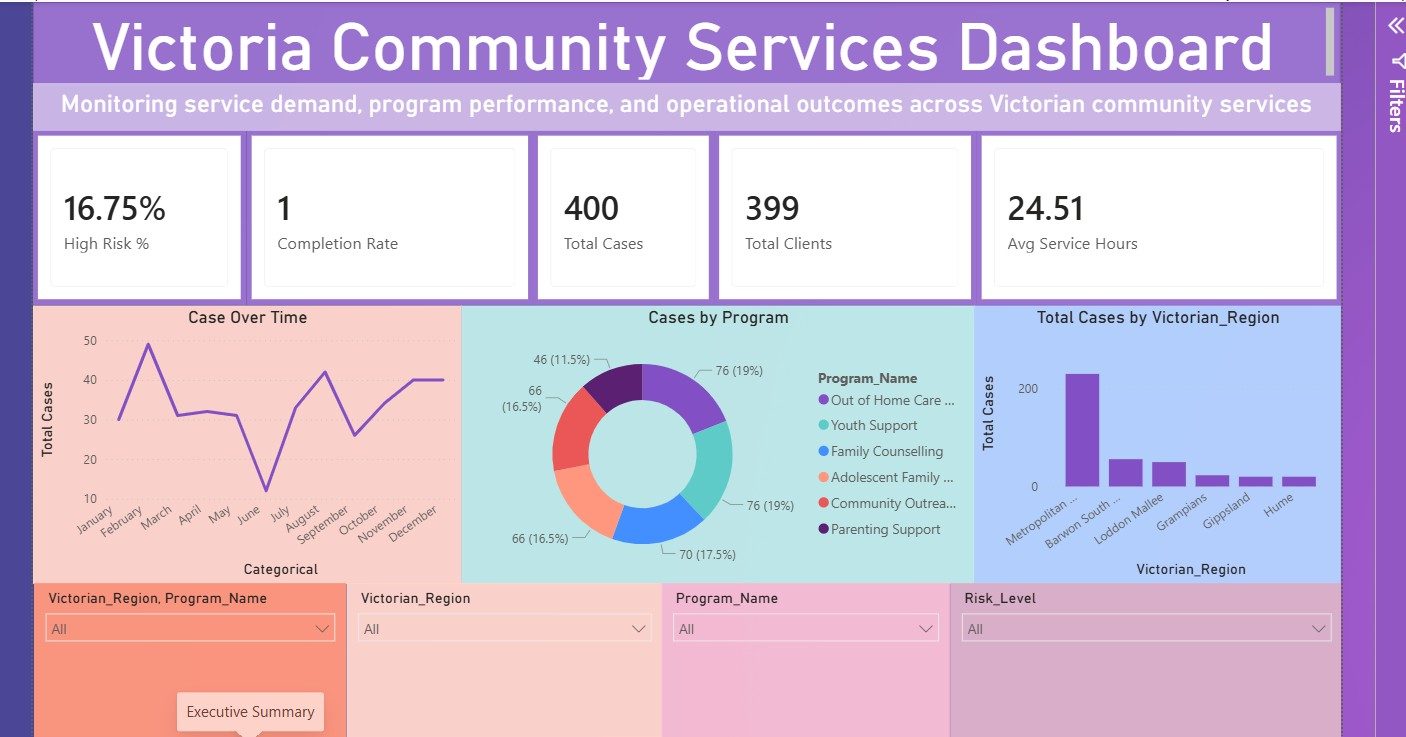

The page's visual inventory and layout, read from the dashboard file:
{"tool":"powerbi","page":{"name":"Executive Summary ","canvas":[1280,720],"ordinal":0},"visuals":[{"type":"cardVisual","fields":{"Data":["Victoria_Service_Data.High Risk Cases"]},"box":[0,126.4,208.8,170.3],"z":0},{"type":"cardVisual","fields":{"Data":["Victoria_Service_Data.Avg Service Hours"]},"box":[923.1,126.4,357.2,170.3],"z":1000},{"type":"cardVisual","fields":{"Data":["Victoria_Service_Data.Completion Rate"]},"box":[208.8,126.4,280.2,170.3],"z":2000},{"type":"cardVisual","fields":{"Data":["Victoria_Service_Data.Total Cases"]},"box":[489,126.4,177.2,170.3],"z":3000},{"type":"cardVisual","fields":{"Data":["Victoria_Service_Data.Total Clients"]},"box":[666.2,126.4,256.9,170.3],"z":4000},{"type":"lineChart","title":"Case Over Time","fields":{"Category":["Calendar.Date.Variation.Date Hierarchy.Month"],"Y":["Victoria_Service_Data.Total Cases"]},"box":[0,296.7,419,272],"z":5000},{"type":"donutChart","title":"Cases by Program","fields":{"Category":["Victoria_Service_Data.Program_Name"],"Y":["Victoria_Service_Data.Total Cases"]},"box":[419,296.7,501.4,272],"z":6000},{"type":"clusteredColumnChart","fields":{"Category":["Victoria_Service_Data.Victorian_Region"],"Y":["Victoria_Service_Data.Total Cases"]},"box":[920.4,296.7,358.5,272],"z":7000},{"type":"slicer","fields":{"Values":["Victoria_Service_Data.Victorian_Region","Victoria_Service_Data.Program_Name"]},"box":[1.4,568.7,305,151.1],"z":8000},{"type":"slicer","fields":{"Values":["Victoria_Service_Data.Victorian_Region"]},"box":[306.4,568.7,308.9,152],"z":9000},{"type":"slicer","fields":{"Values":["Victoria_Service_Data.Program_Name"]},"box":[615.4,568.7,281.6,152.5],"z":10000},{"type":"slicer","fields":{"Values":["Victoria_Service_Data.Risk_Level"]},"box":[897,568.7,383.3,152.5],"z":11000},{"type":"textbox","box":[0,0,1279.1,81.9],"z":12000},{"type":"textbox","box":[0,79.5,1279.1,46.5],"z":12001}]}

Visuals, with their boxes on the page's 1280x720 design canvas (x1, y1, x2, y2). These are canvas units, not pixel positions in the 1406x737 screenshot, which may show the page scaled, cropped or inside an application window:
cardVisual - Victoria_Service_Data.High Risk Cases: [0,126,209,297]
cardVisual - Victoria_Service_Data.Avg Service Hours: [923,126,1280,297]
cardVisual - Victoria_Service_Data.Completion Rate: [209,126,489,297]
cardVisual - Victoria_Service_Data.Total Cases: [489,126,666,297]
cardVisual - Victoria_Service_Data.Total Clients: [666,126,923,297]
"Case Over Time" lineChart: [0,297,419,569]
"Cases by Program" donutChart: [419,297,920,569]
clusteredColumnChart - Victoria_Service_Data.Victorian_Region x Victoria_Service_Data.Total Cases: [920,297,1279,569]
slicer - Victoria_Service_Data.Victorian_Region x Victoria_Service_Data.Program_Name: [1,569,306,720]
slicer - Victoria_Service_Data.Victorian_Region: [306,569,615,721]
slicer - Victoria_Service_Data.Program_Name: [615,569,897,721]
slicer - Victoria_Service_Data.Risk_Level: [897,569,1280,721]
textbox: [0,0,1279,82]
textbox: [0,80,1279,126]
